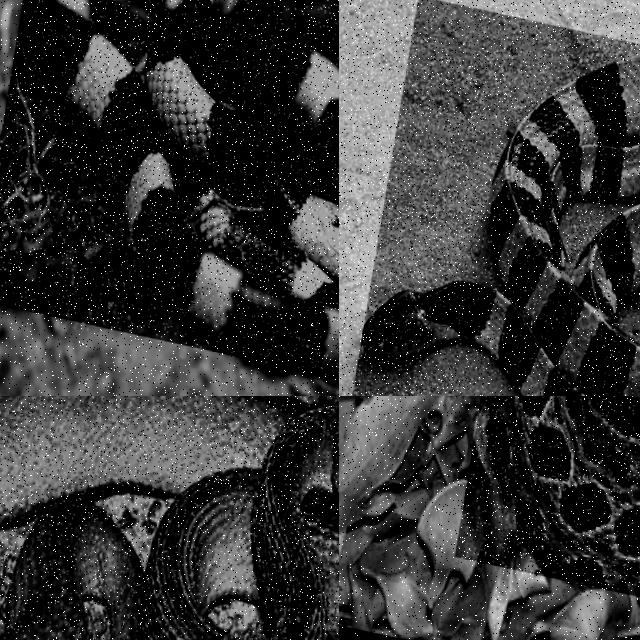Bungarus candidus: (19, 0, 338, 374)
Bungarus fasciatus: (363, 54, 639, 395)
Daboia siamensis: (482, 396, 639, 587)
Trimeresurus: (0, 396, 338, 639)
snake: (19, 0, 338, 374), (363, 54, 639, 395), (0, 396, 338, 639), (482, 396, 639, 587)
